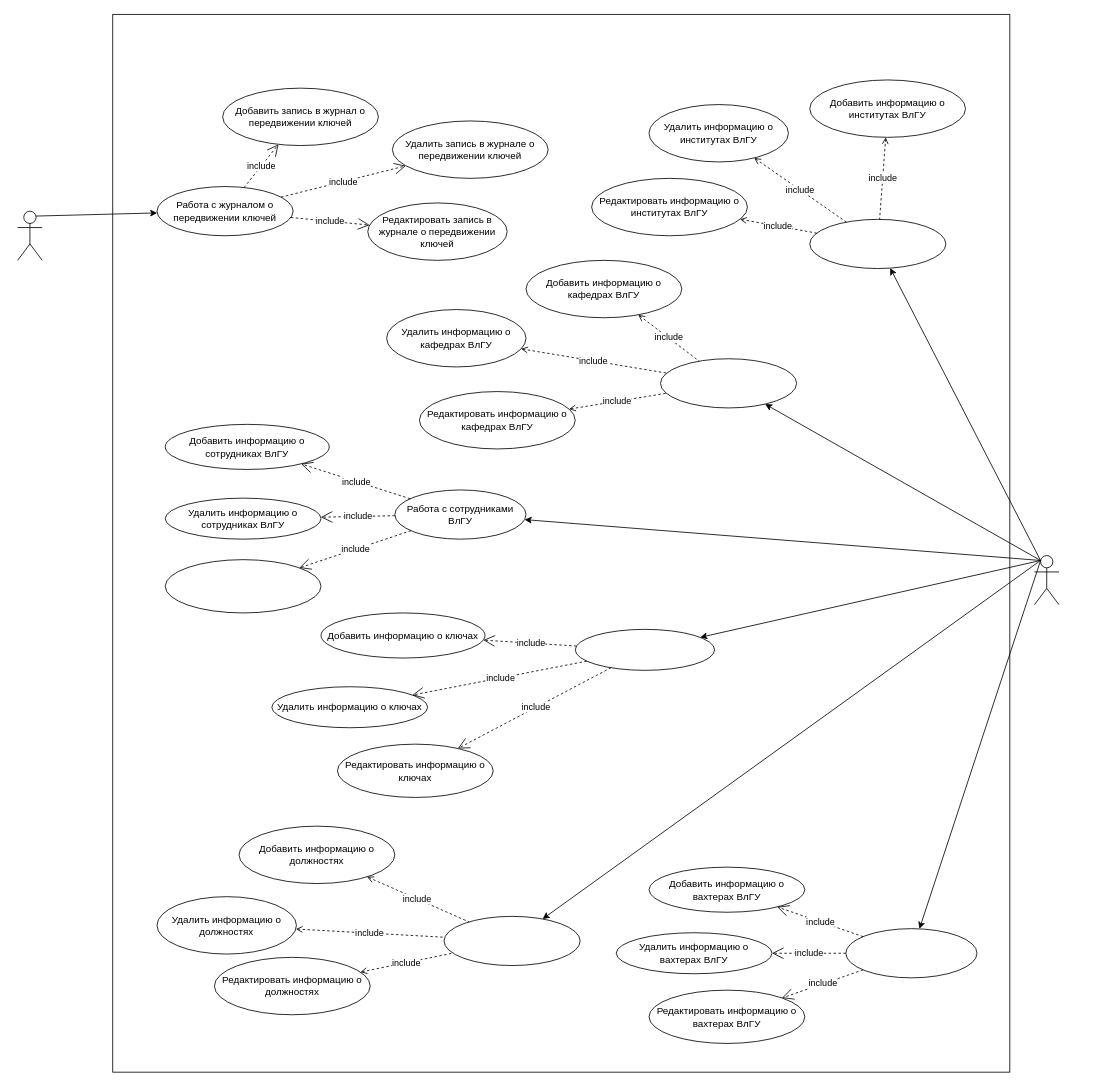
This 1096x1087 diagram has some shape labels left out. The shapes that lost their labels are listed below. From the top down, each one's box as (x1, y1, x2, y2) in pixels, then its label:
(17, 210, 42, 260): Вахтёр
(809, 219, 946, 269): Работа с институтами ВлГУ
(660, 358, 797, 408): Работа с кафедрами ВлГУ
(164, 559, 321, 613): Редактировать информацию о сотрудниках ВлГУ
(1034, 555, 1059, 605): Администратор
(574, 629, 715, 670): Работа с ключами от аудиторий ВлГУ
(443, 916, 580, 966): Работа с должностями
(845, 928, 977, 978): Работа с вахтерами ВлГУ
